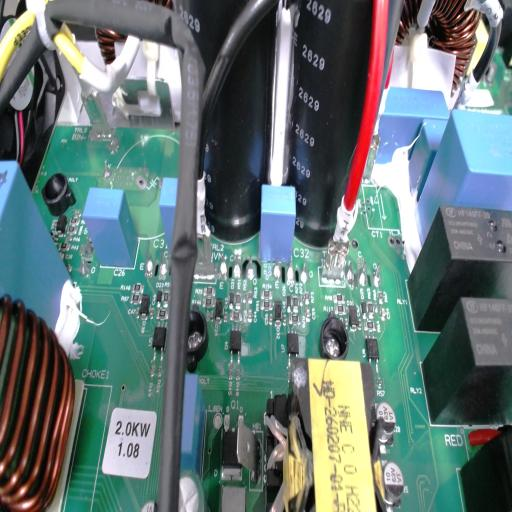pin_group: (269, 246, 311, 290), (342, 253, 386, 293), (216, 248, 258, 286), (141, 245, 172, 282)
solder_ball: (283, 255, 296, 286), (143, 250, 156, 279), (216, 255, 230, 280), (371, 259, 382, 289), (244, 257, 257, 281), (345, 260, 356, 288), (358, 263, 369, 291), (272, 255, 282, 284), (232, 253, 242, 281), (158, 252, 169, 277), (300, 258, 308, 285)
